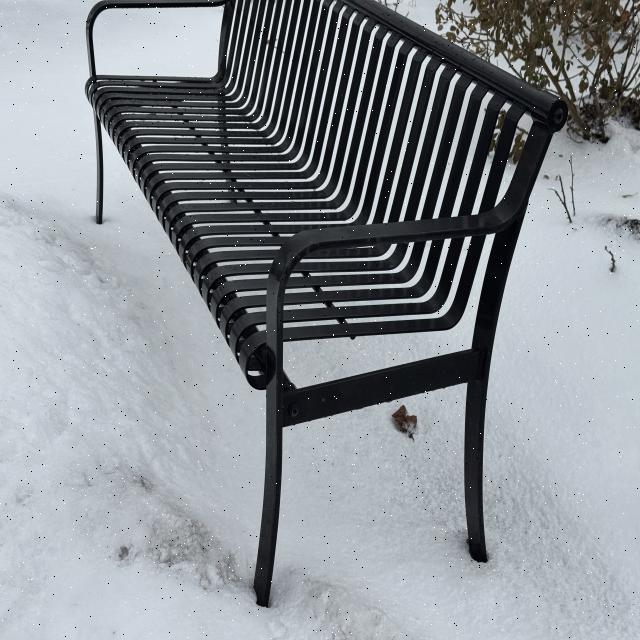Bench: (82, 3, 569, 591)
